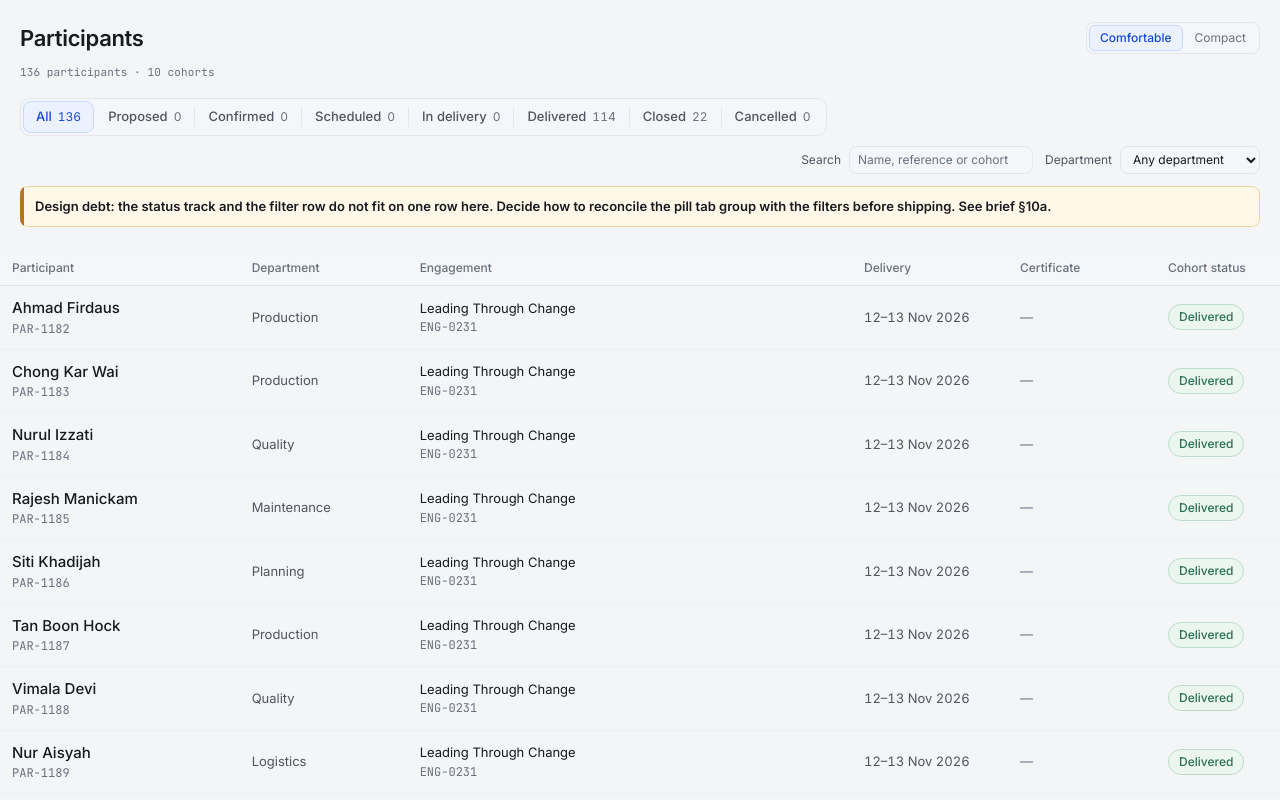
Test: M10 · participant directory › empties honestly when the search matches nobody
Expected: the text "Ahmad Firdaus" is shown, [12,298,120,317]
Type "nobody by this name" into the search field labelled "Search".
click(941, 160); type("nobody by this name")  # box [849,146,1033,174]
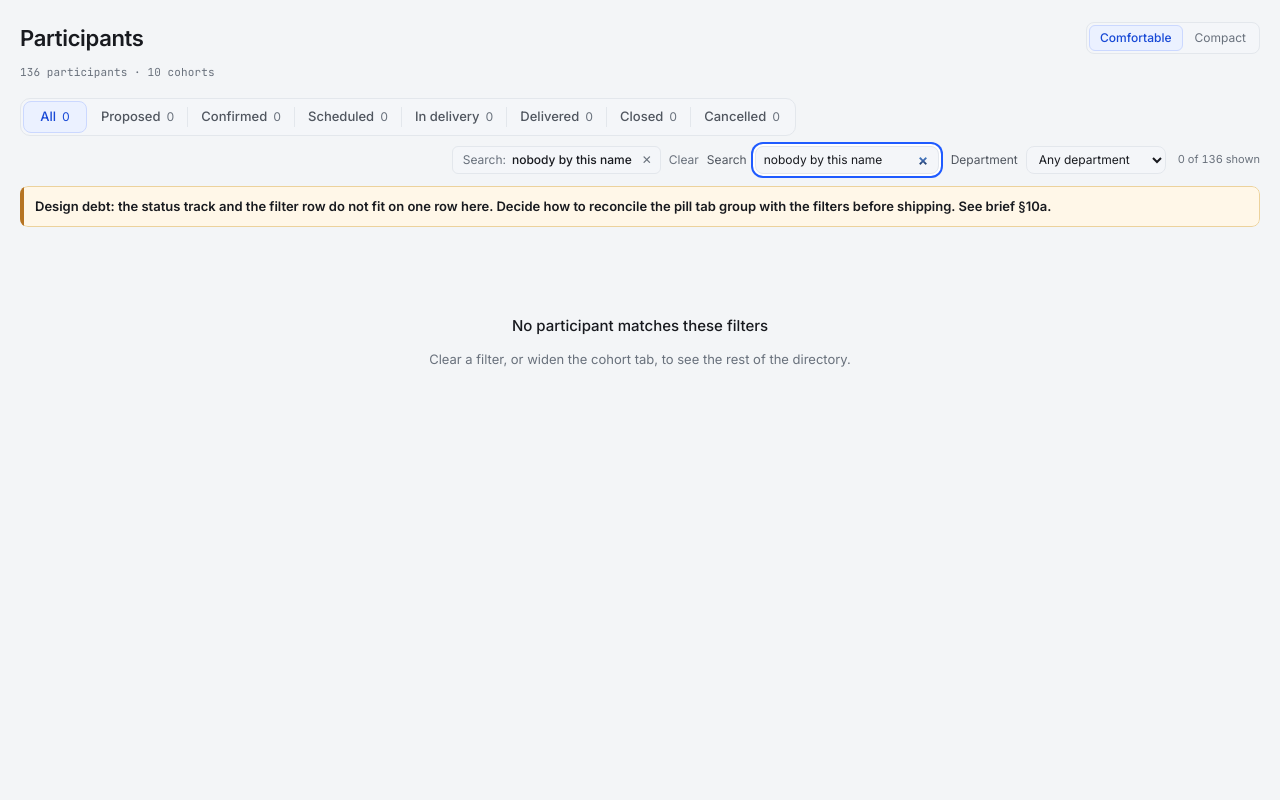
Result: the text "No participant matches these filters" is shown at [512,315,768,338]
